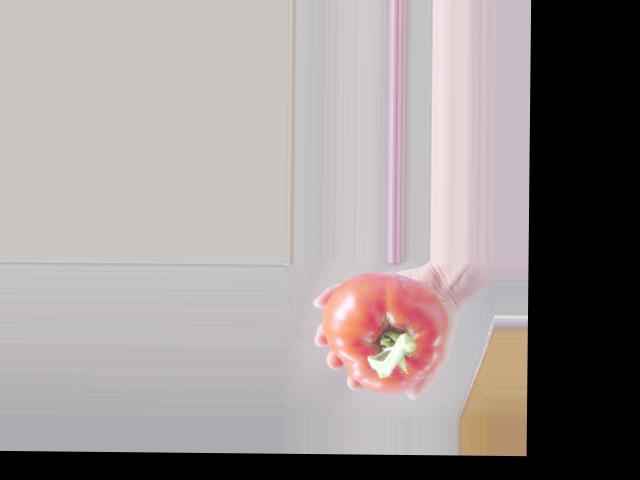tomato: (321, 271, 447, 394)
